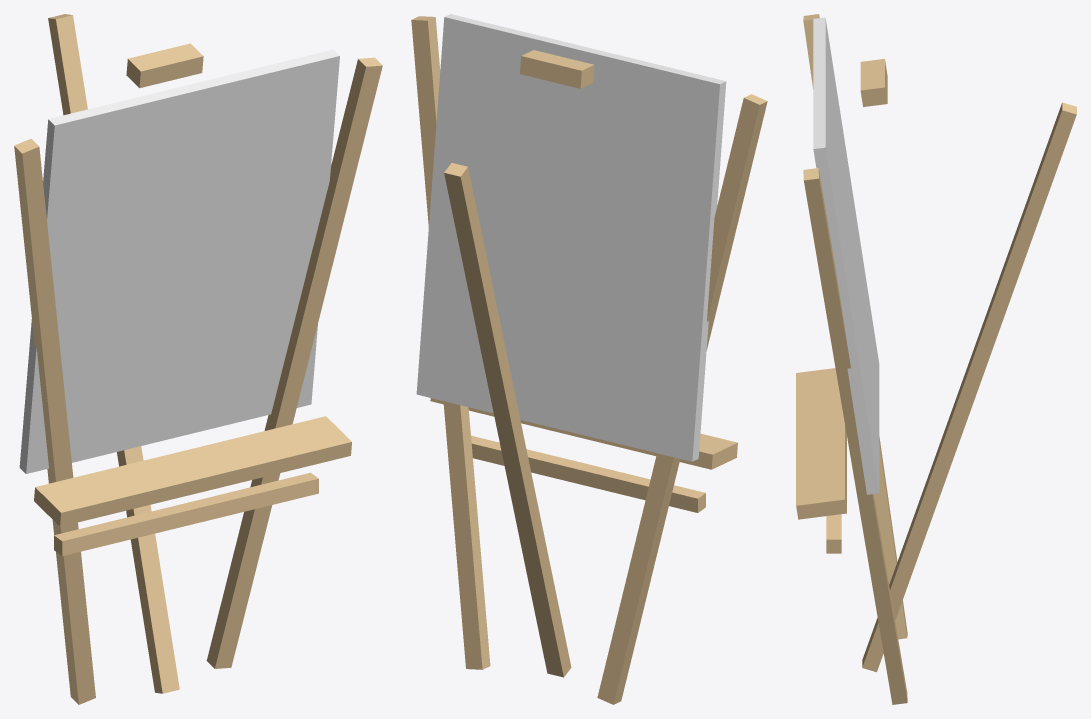
The model's file is easel.glb.
3 renders of one model, left to right at view 1: azimuth 30°, elevation 25°; view 2: azimuth 150°, elevation 25°; view 3: azimuth 270°, elevation 25°, orthographic. The views are drawn at different scales.
Visible parts, largest first — view 1: canvas, leg_r, ledge, leg_l, leg_back, crossbar, clamp; view 2: canvas, leg_back, leg_l, leg_r, crossbar, clamp, ledge; view 3: canvas, leg_back, leg_r, ledge, leg_l, clamp, crossbar.
Boxes of the visible parts, bbox=[...] form: canvas: bbox=[19, 49, 339, 473]; leg_r: bbox=[206, 57, 382, 668]; ledge: bbox=[34, 416, 351, 526]; leg_l: bbox=[14, 138, 95, 704]; leg_back: bbox=[48, 14, 179, 693]; crossbar: bbox=[54, 472, 318, 556]; clamp: bbox=[126, 43, 203, 88]; canvas: bbox=[416, 14, 726, 461]; leg_back: bbox=[444, 163, 571, 677]; leg_l: bbox=[597, 94, 767, 704]; leg_r: bbox=[411, 16, 490, 669]; crossbar: bbox=[471, 435, 705, 512]; clamp: bbox=[520, 50, 594, 88]; ledge: bbox=[430, 398, 737, 469]; canvas: bbox=[813, 17, 879, 494]; leg_back: bbox=[862, 102, 1076, 672]; leg_r: bbox=[803, 168, 907, 704]; ledge: bbox=[796, 368, 846, 519]; leg_l: bbox=[803, 14, 907, 639]; clamp: bbox=[860, 59, 887, 106]; crossbar: bbox=[826, 514, 841, 553].
Size of the model in its own units: 1.26 by 2.14 by 0.9109.
